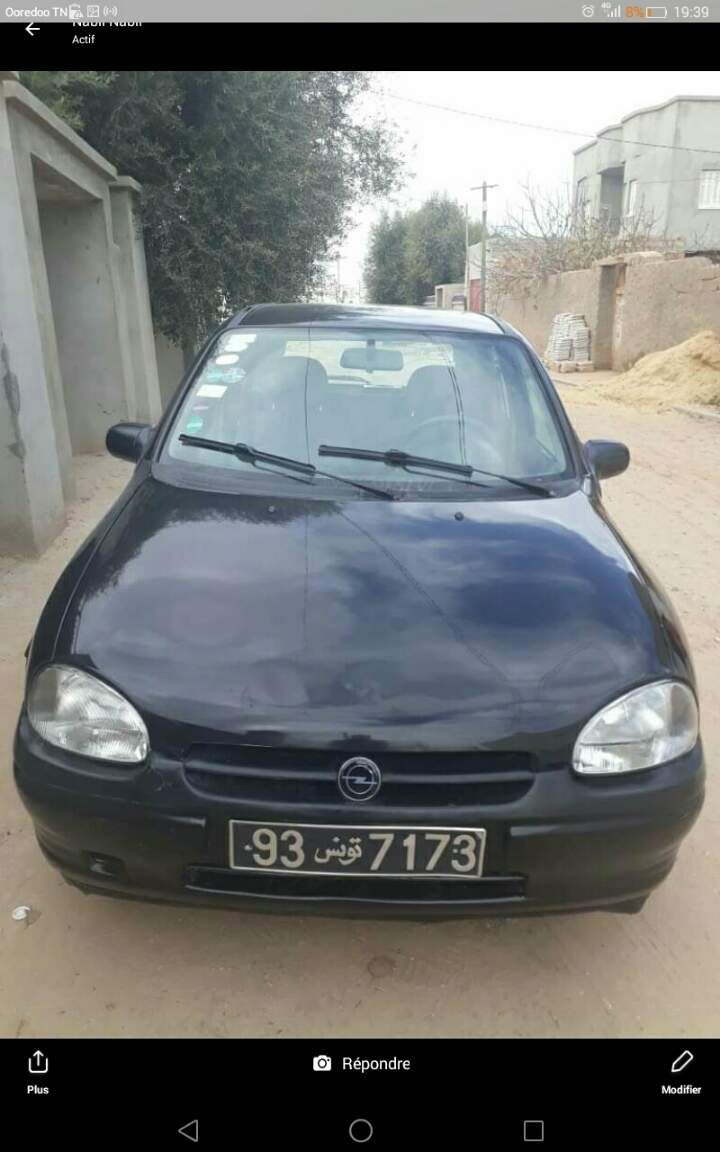LP: (226, 817, 483, 882)
